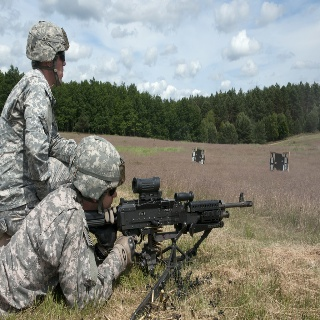rifle: (82, 176, 253, 248)
